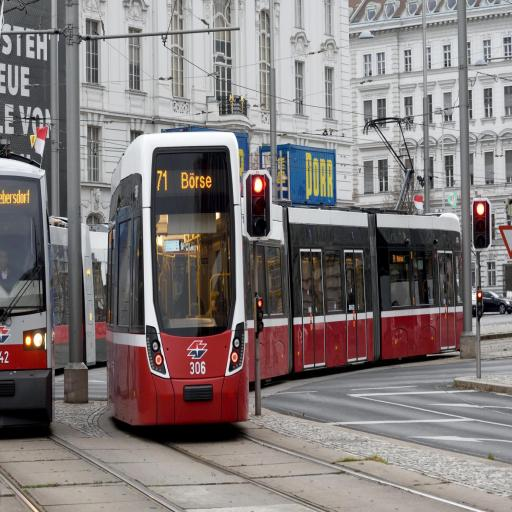Flexity: (102, 130, 467, 434)
